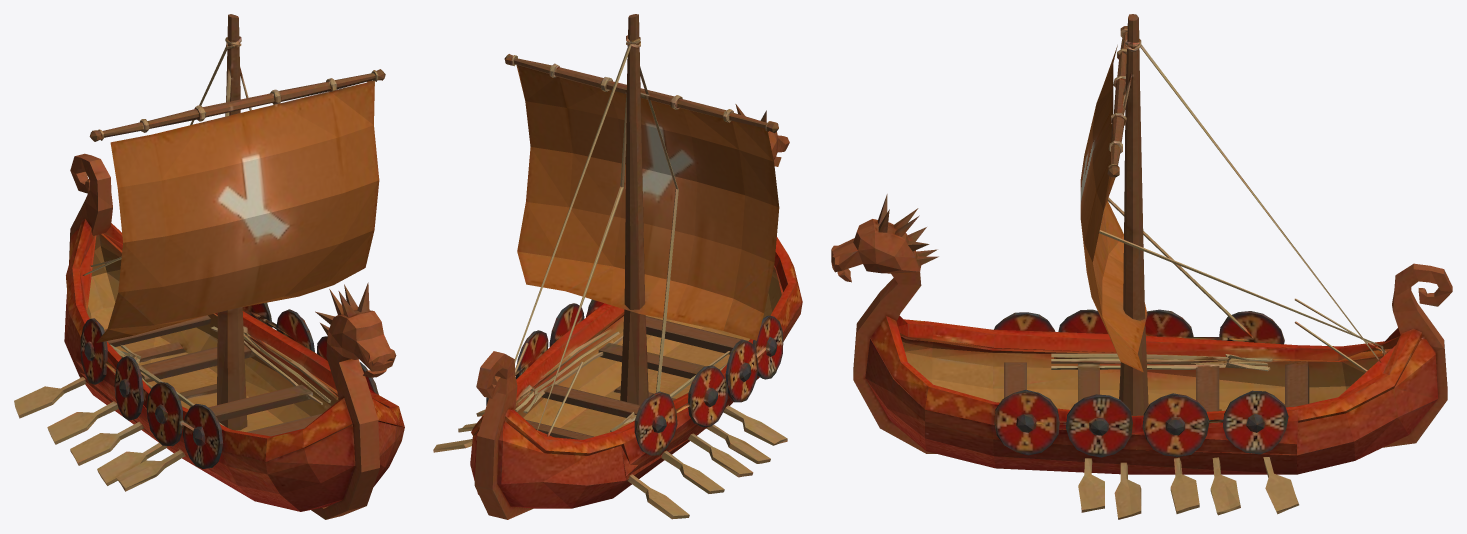
File: berserker.glb
The picture shows the model from 3 angles, left to right: view 1: azimuth 30°, elevation 25°; view 2: azimuth 150°, elevation 25°; view 3: azimuth 270°, elevation 25°; orthographic projection. The views are drawn at different scales.
Visible parts, largest first — view 1: tripo_node_0c45e643-14a1-483f-aa9c-ee2943067ba6; view 2: tripo_node_0c45e643-14a1-483f-aa9c-ee2943067ba6; view 3: tripo_node_0c45e643-14a1-483f-aa9c-ee2943067ba6.
Part boxes in pixels (bbox=[...]): tripo_node_0c45e643-14a1-483f-aa9c-ee2943067ba6: bbox=[14, 14, 404, 519]; tripo_node_0c45e643-14a1-483f-aa9c-ee2943067ba6: bbox=[433, 14, 802, 519]; tripo_node_0c45e643-14a1-483f-aa9c-ee2943067ba6: bbox=[831, 14, 1452, 519].
Bounding box in the file's own units: 0.5449 × 0.7793 × 0.998.
Materials: 1 (1 with a texture image).
